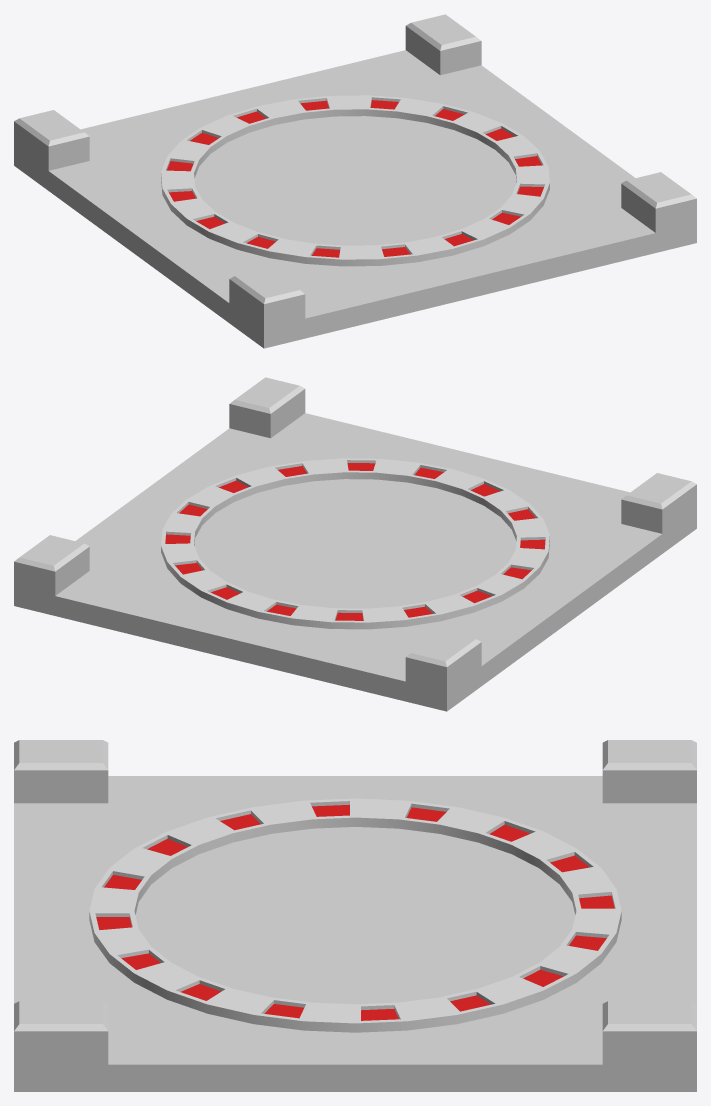
Rendered from SM_Prop_Gate.fbx.
The picture shows the model from 3 angles, top to bottom: view 1: azimuth 30°, elevation 25°; view 2: azimuth 150°, elevation 25°; view 3: azimuth 270°, elevation 25°; orthographic projection. The views are drawn at different scales.
Parts seen in each view (by area): view 1: SM_Prop_Gate; view 2: SM_Prop_Gate; view 3: SM_Prop_Gate.
Part boxes in pixels (x1=…): SM_Prop_Gate: x1=14, y1=14, x2=696, y2=348; SM_Prop_Gate: x1=14, y1=377, x2=696, y2=711; SM_Prop_Gate: x1=14, y1=740, x2=696, y2=1091.
Bounding box in the file's own units: 370 × 39.19 × 370.
